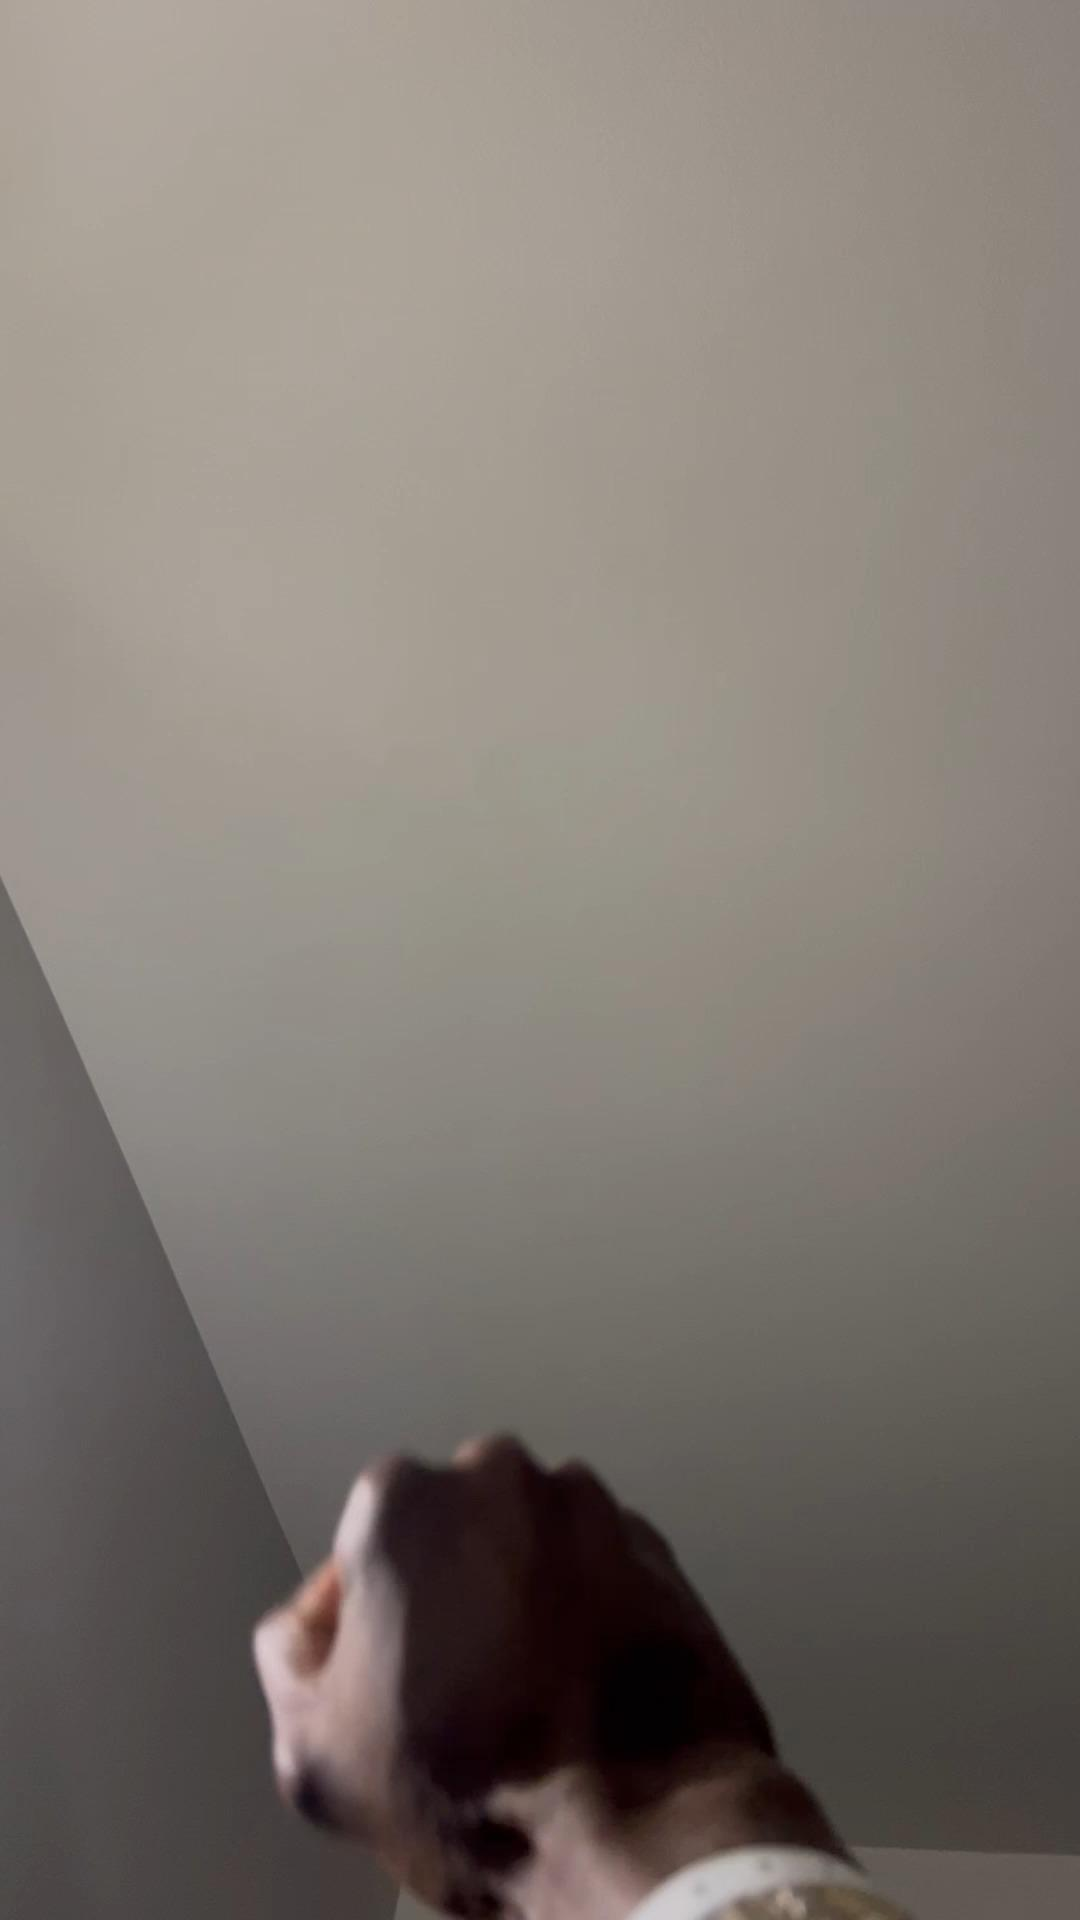Rock: (253, 1437, 775, 1907)
